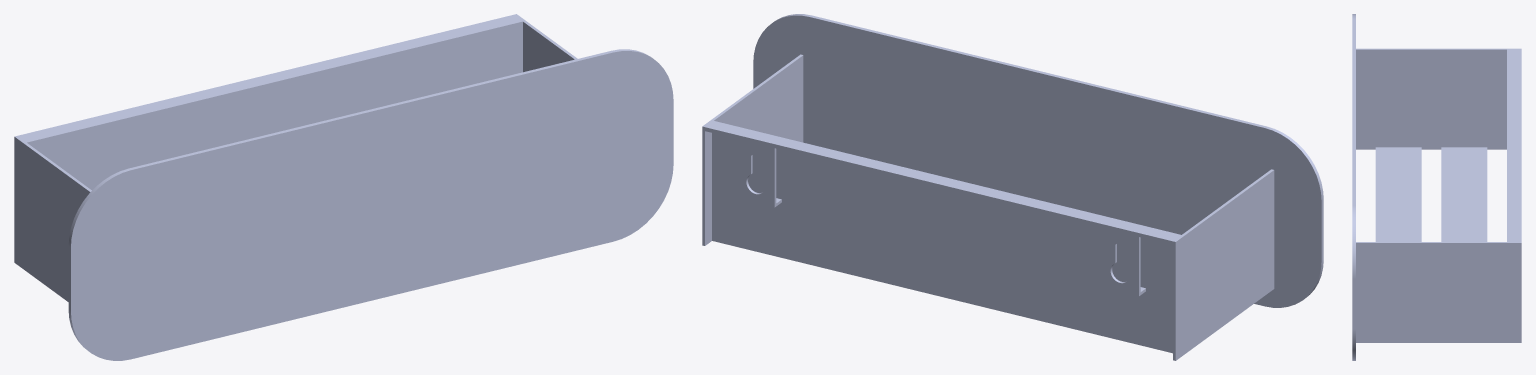
Rendered from radius-mono.51569b196d.glb.
3 renders of one model, left to right at view 1: azimuth 30°, elevation 25°; view 2: azimuth 150°, elevation 25°; view 3: azimuth 270°, elevation 25°, orthographic. The views are drawn at different scales.
Parts seen in each view (by area): view 1: NAUO1; view 2: NAUO1; view 3: NAUO1.
Boxes of the visible parts, <box> form: NAUO1: <box>14,14,673,360</box>; NAUO1: <box>702,14,1323,360</box>; NAUO1: <box>1352,14,1521,360</box>.
Size of the model in its own units: 0.3 by 0.09 by 0.092.
